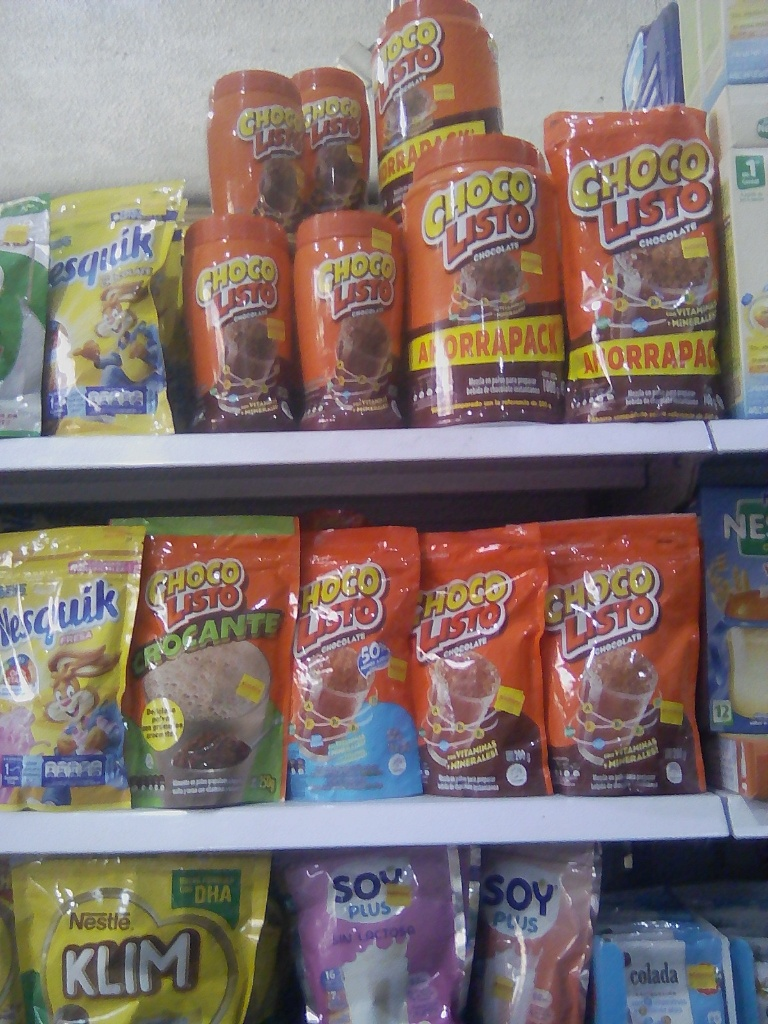COL0170102DYP25000: (107, 514, 304, 814)
COL0170103DYP1,500: (544, 109, 723, 419)
COL0170103TRR00100: (379, 0, 505, 214)
COL0170103TRR30000: (183, 213, 293, 430)
COL0170104DYP20000: (277, 522, 422, 801)
COL0170305DYP20000: (0, 519, 145, 811)
